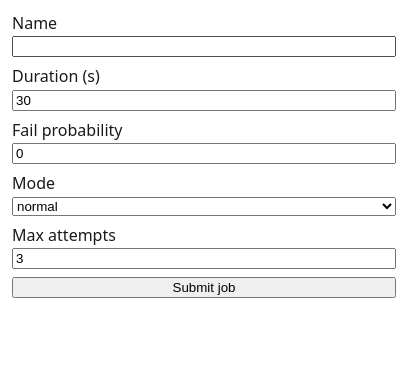
Scenario: SubmitJobForm server errors › 500 envelope
The image size is (413, 377).
In the field labelled "Name": (204, 47) [12,36,396,57], type "n"
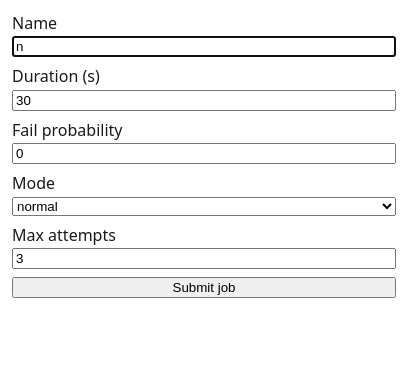
Click the button "Submit job": (204, 288) [12,277,396,298]
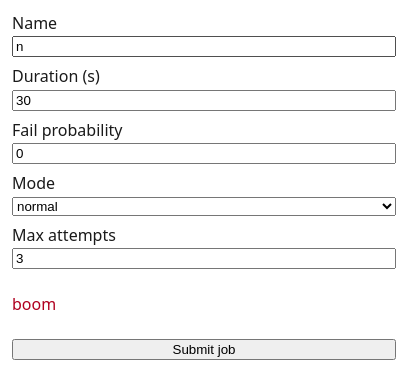
Check: the button "Submit job" is enabled, box [12,339,396,360]
Check: the message reads "boom", box [12,293,56,315]
